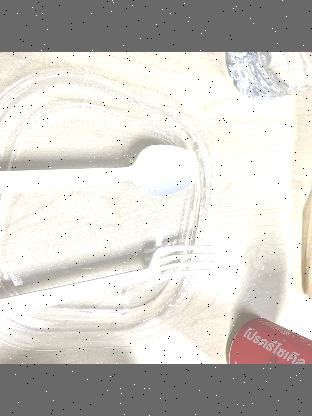Others: (0, 239, 219, 322), (0, 137, 204, 213)
